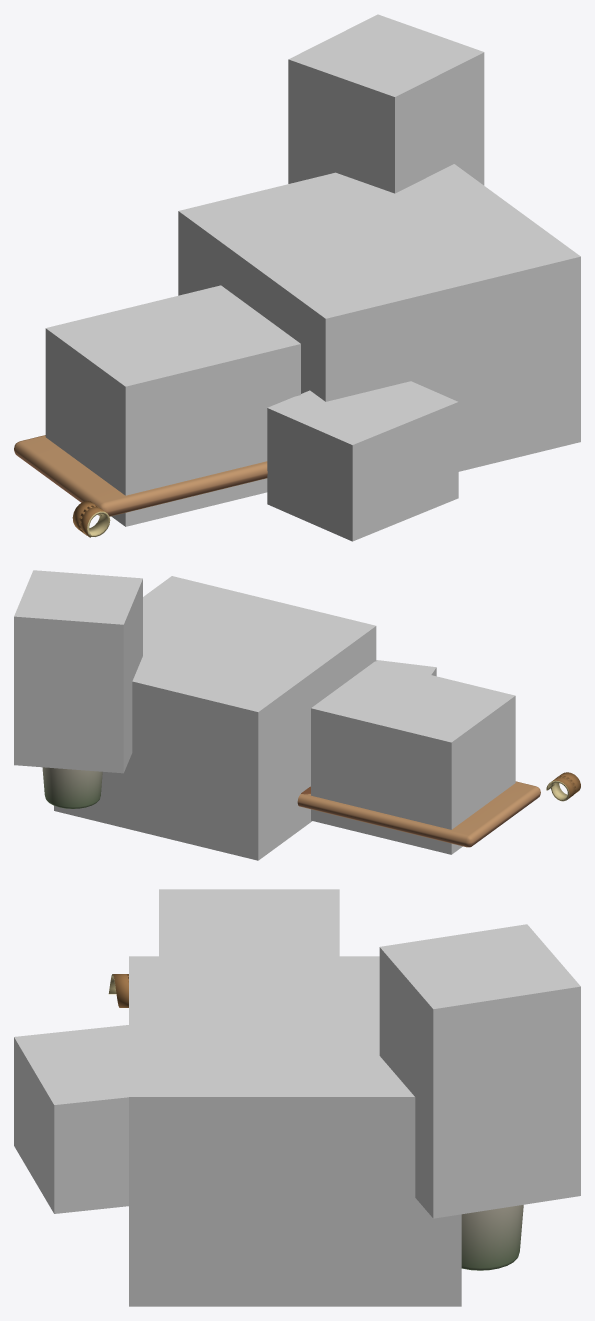
The model's file is potato.glb.
3 views of the same model, one above another, from view 1: azimuth 30°, elevation 25°; view 2: azimuth 150°, elevation 25°; view 3: azimuth 270°, elevation 25° (orthographic). The views are drawn at different scales.
Visible parts, largest first — view 1: hit_bowl__geo, hit_potato__geo, hit_masher__geo, hit_butter__geo, board__geo, peel_curl__geo; view 2: hit_bowl__geo, hit_potato__geo, hit_masher__geo, board__geo, crock__geo, peel_curl__geo; view 3: hit_bowl__geo, hit_masher__geo, hit_butter__geo, hit_potato__geo, crock__geo, peel_curl__geo.
Boxes of the visible parts, x1,y1,x2,y2 form: hit_bowl__geo: (178, 164, 580, 471); hit_potato__geo: (45, 285, 300, 526); hit_masher__geo: (288, 14, 484, 193); hit_butter__geo: (267, 381, 458, 541); board__geo: (14, 435, 267, 516); peel_curl__geo: (72, 501, 110, 537); hit_bowl__geo: (54, 576, 376, 860); hit_potato__geo: (311, 661, 515, 854); hit_masher__geo: (14, 570, 142, 773); board__geo: (297, 781, 540, 847); crock__geo: (42, 767, 102, 808); peel_curl__geo: (546, 772, 580, 801); hit_bowl__geo: (129, 956, 461, 1306); hit_masher__geo: (379, 924, 580, 1218); hit_butter__geo: (14, 1025, 128, 1213); hit_potato__geo: (159, 889, 339, 956); crock__geo: (461, 1205, 523, 1270); peel_curl__geo: (108, 974, 128, 1007).
Bounding box in the file's own units: 1.52 × 0.76 × 1.23.
